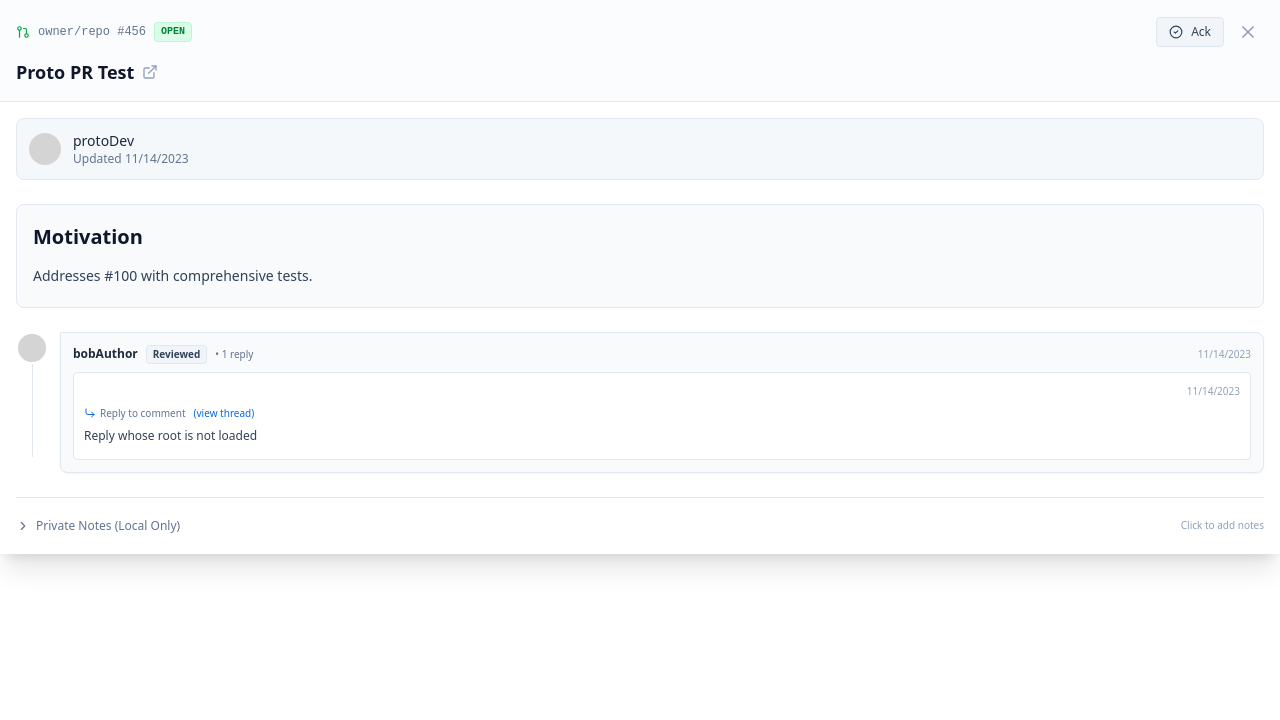
Test: DetailsPane Component › Review Comment Thread Expansion and Timestamp Links › does not render the "view full thread on GitHub" link when no PR URL is available
The image size is (1280, 720).
Click the button "(view thread)" at (224, 413), box [194,405,254,422]
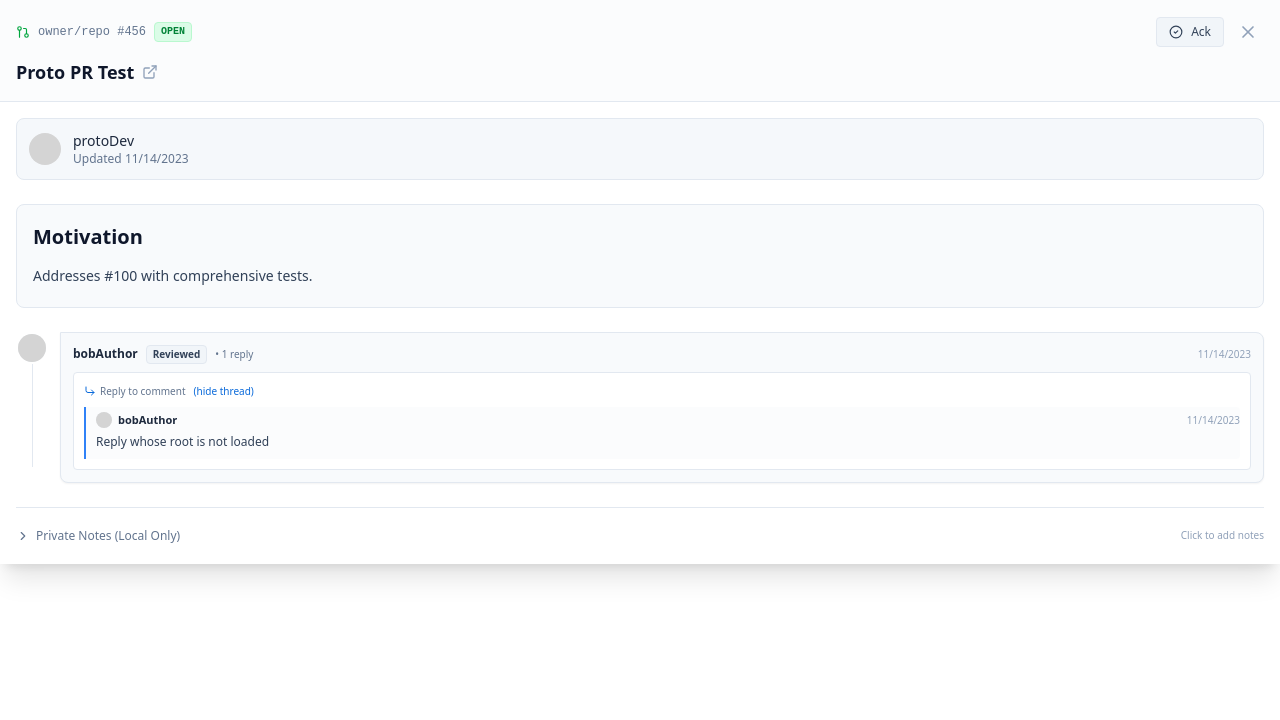
Check: the element with test id "expanded-review-thread" is shown, box [84,407,1240,459]
